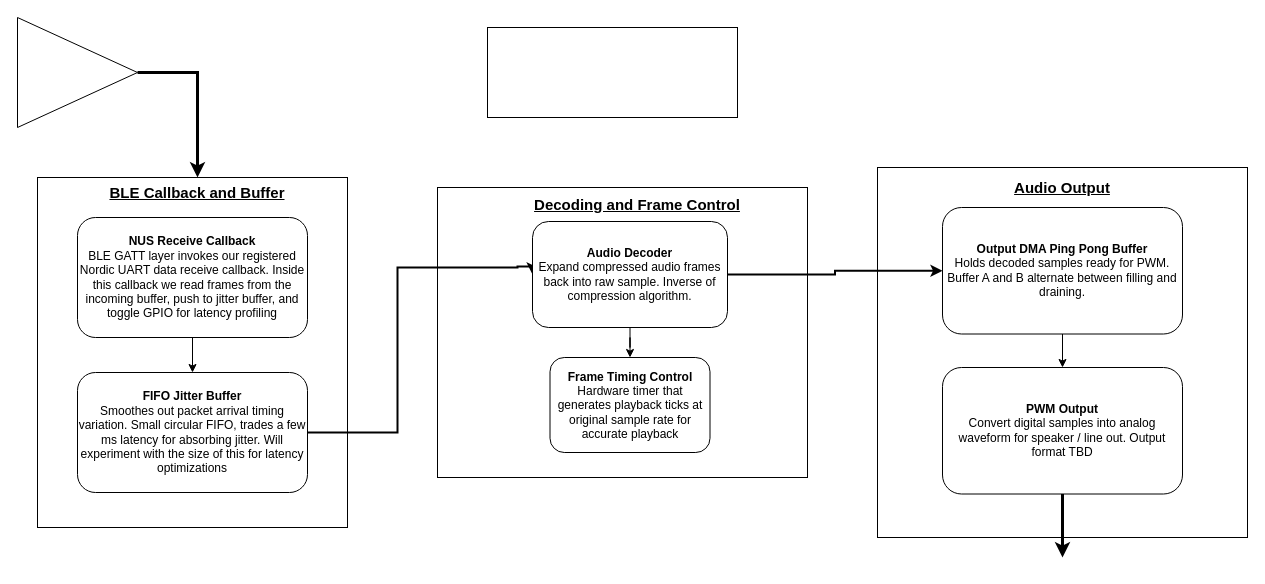
Image size: 1265x584. Some labels were removed from this diagram. The shapes that lost their labels are listed below. From the top down, each one's centre as x and y in pixels, then its label:
At pixel 77 72: "BLE Controller and Link Layer".
At pixel 612 72: "End-to-End RX Data Path".
